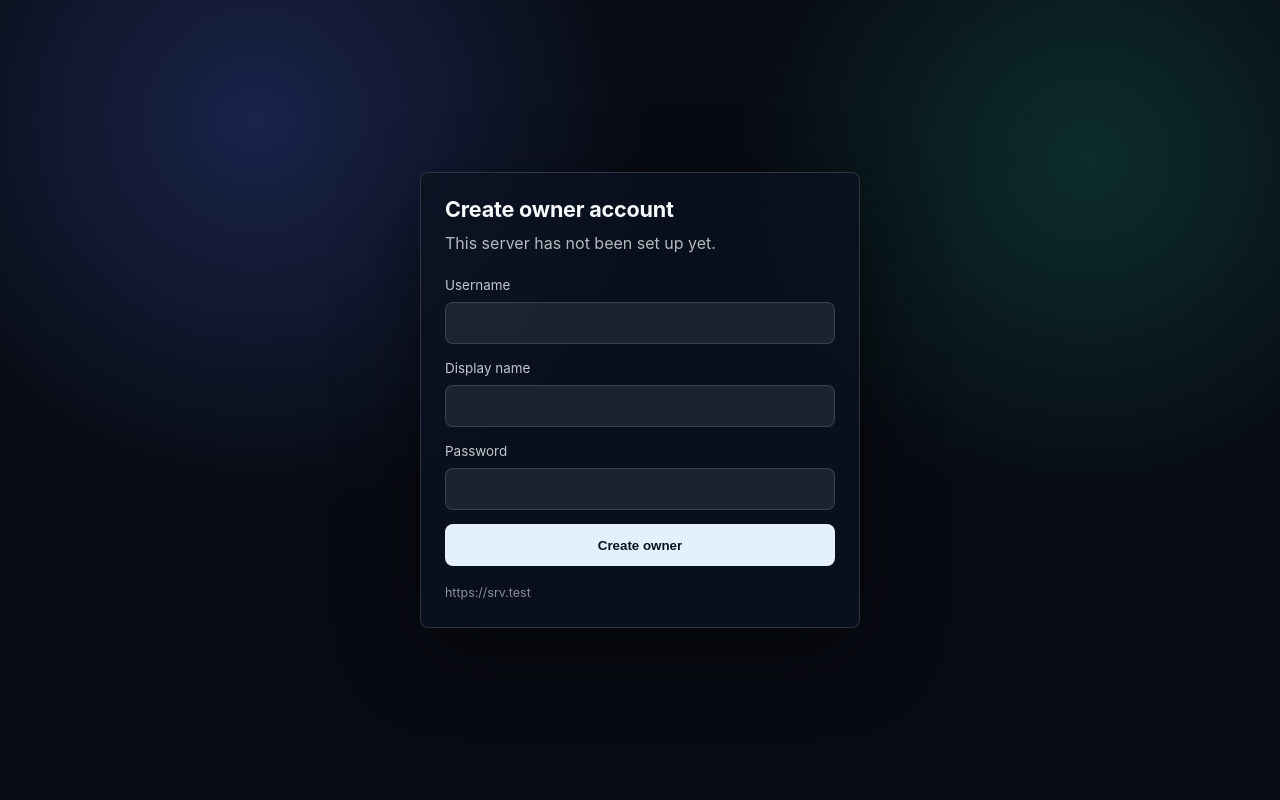
Scenario: ServerModeGate › setup-owner form › shows the form error and stays on the form when setup-owner POST fails
The image size is (1280, 800).
expect the heading "Create owner account" is shown: met, box x1=445 y1=196 x2=674 y2=222
In the field labelled "Username": (640, 323) x1=445 y1=302 x2=835 y2=344, type "boss"
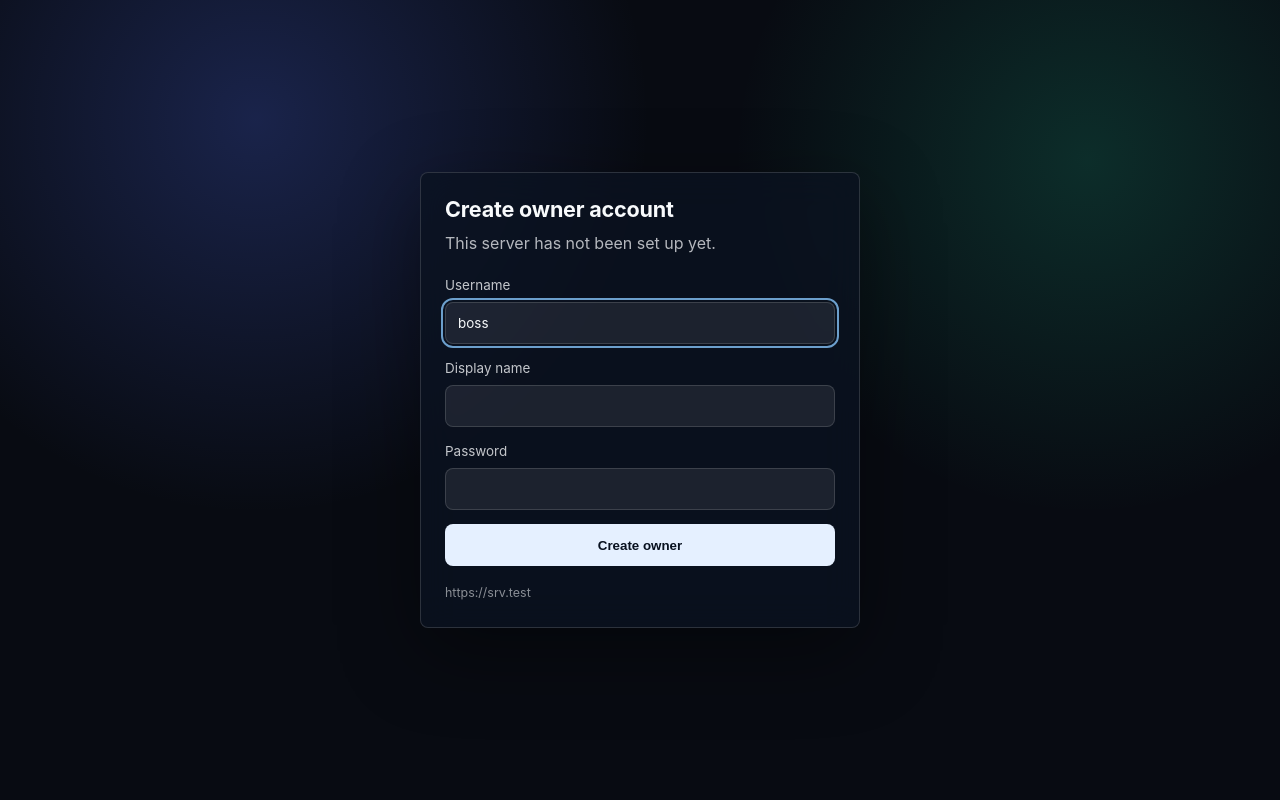
In the password field labelled "Password": (640, 489) x1=445 y1=468 x2=835 y2=510, type "supersecret"
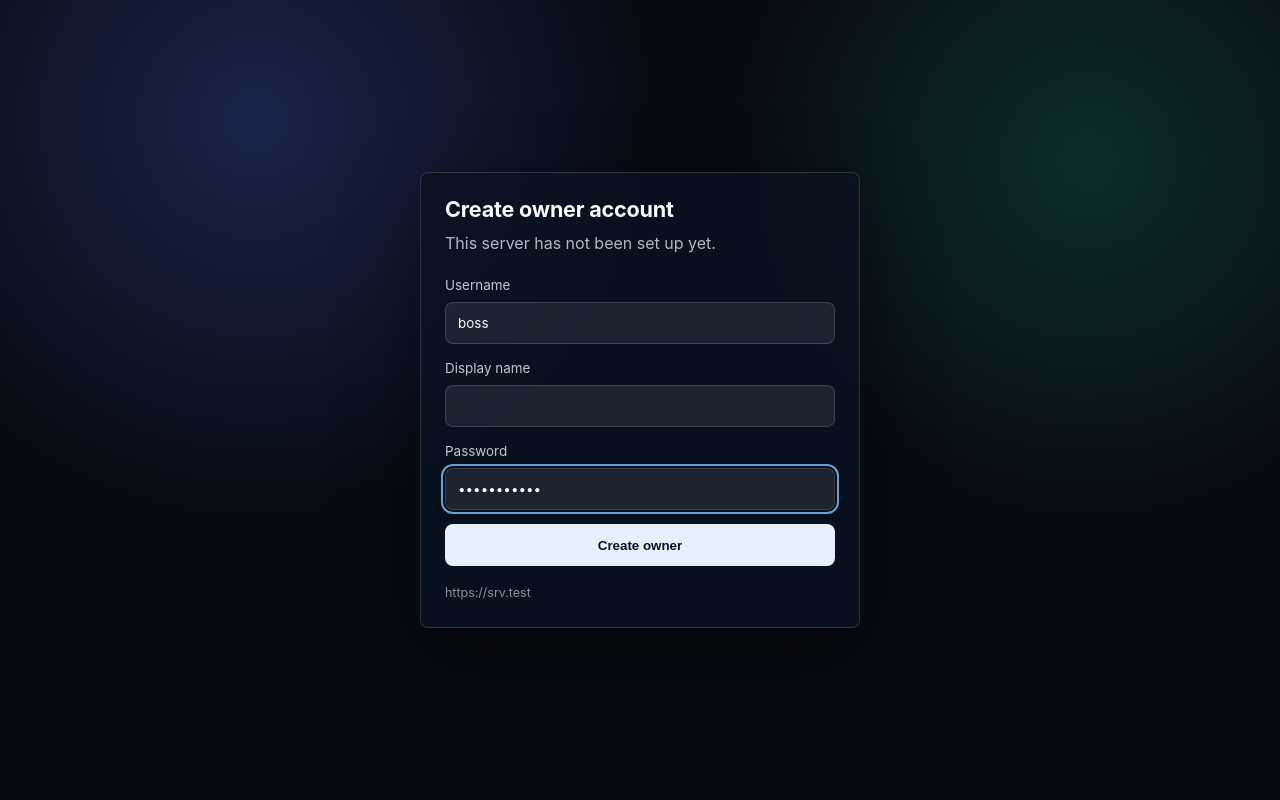
Click the button "Create owner": (640, 545) x1=445 y1=524 x2=835 y2=566
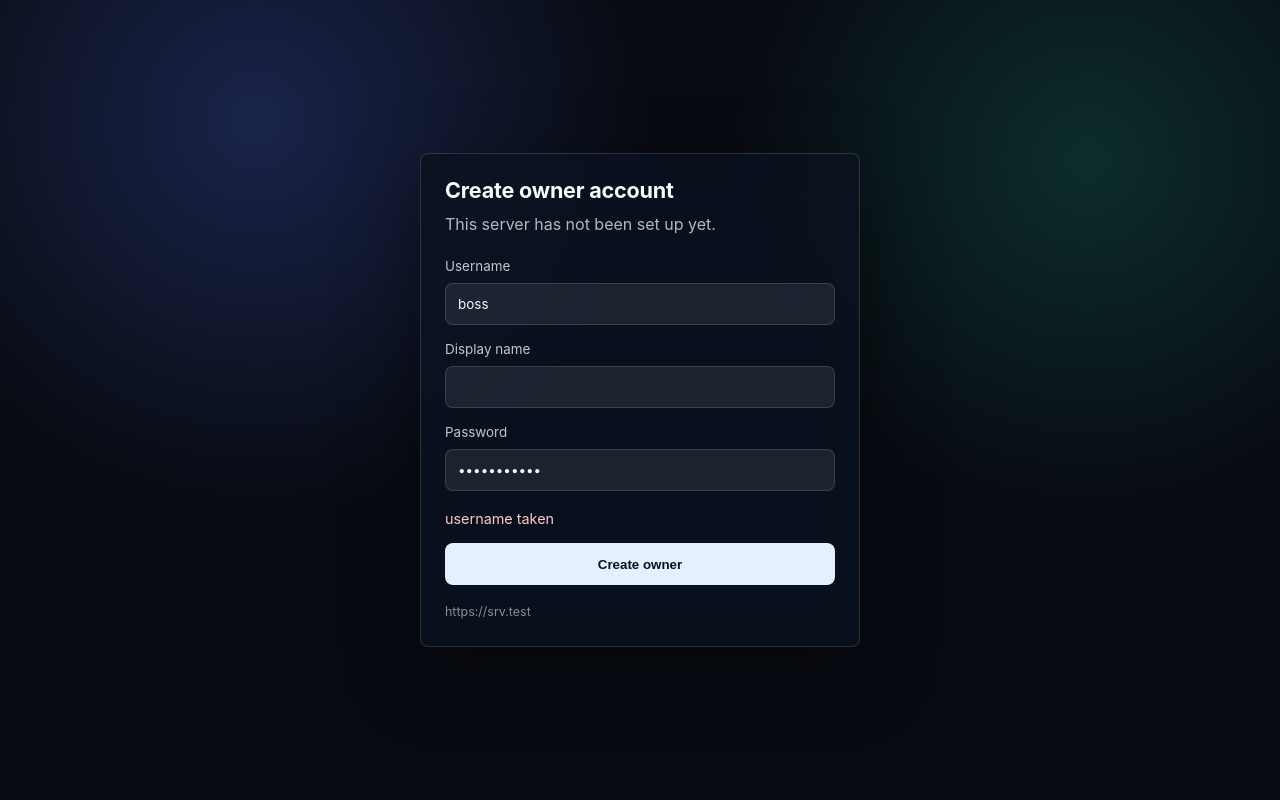
expect the heading "Create owner account" is shown: met, box x1=445 y1=177 x2=674 y2=203
expect the text "username taken" is shown: met, box x1=445 y1=510 x2=554 y2=526
